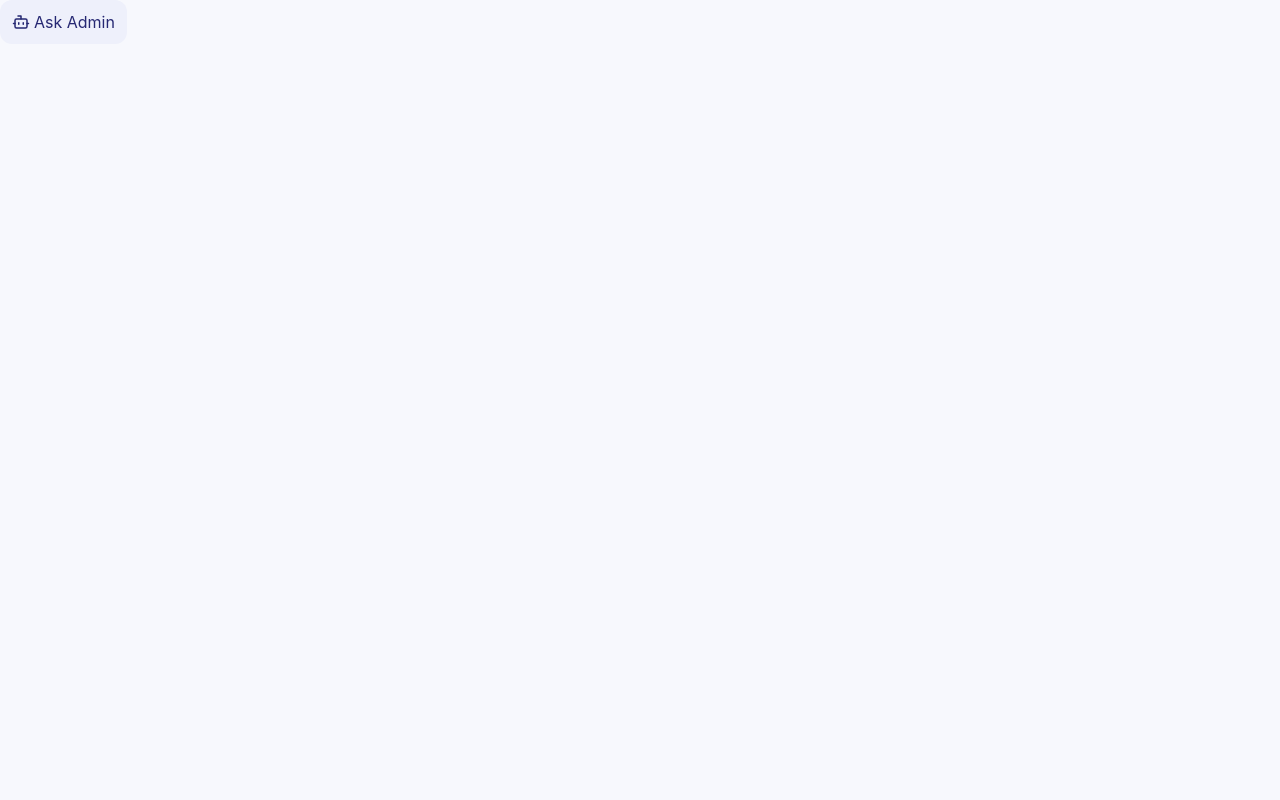
Test: Ask Admin › filters the directory and rechecks access when a choice is selected
The image size is (1280, 800).
Click the button "Ask Admin": click(64, 22) [0, 0, 127, 44]
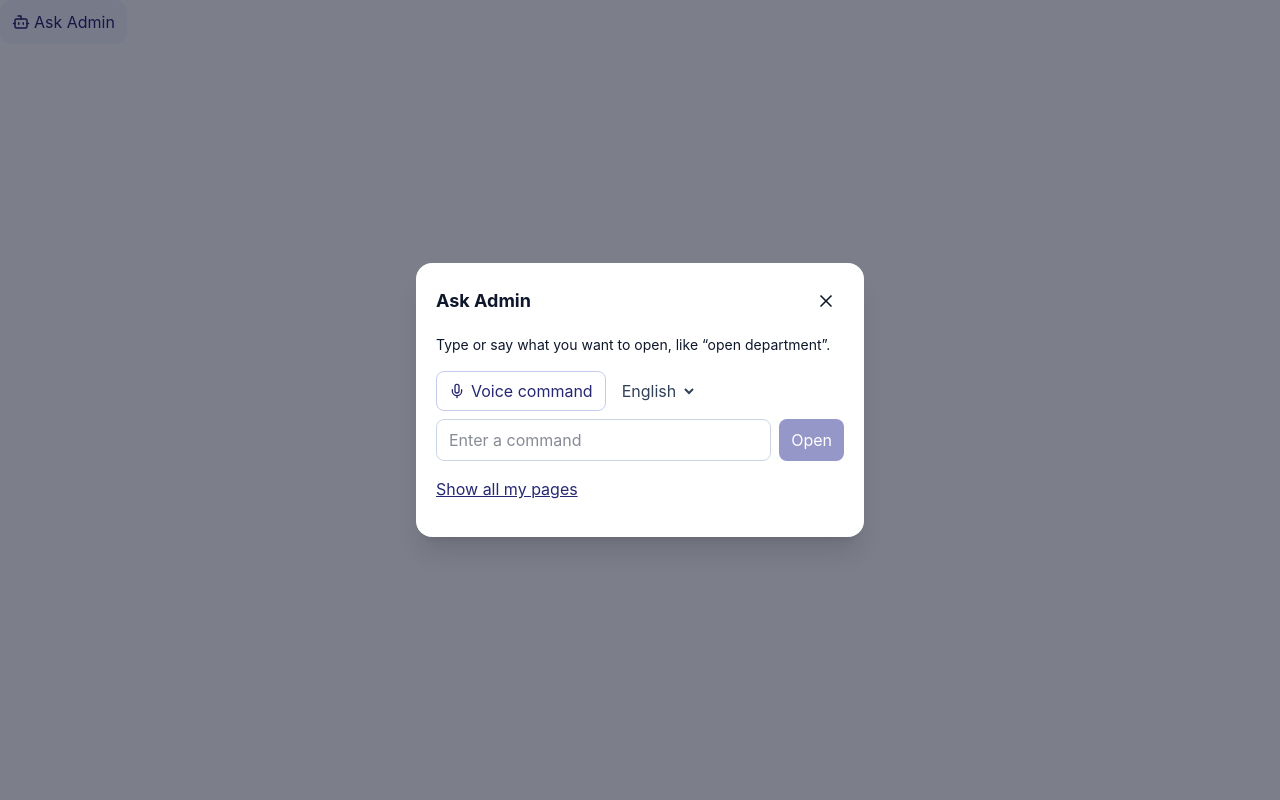
Click the button "Show all my pages": click(507, 489) [436, 477, 578, 501]
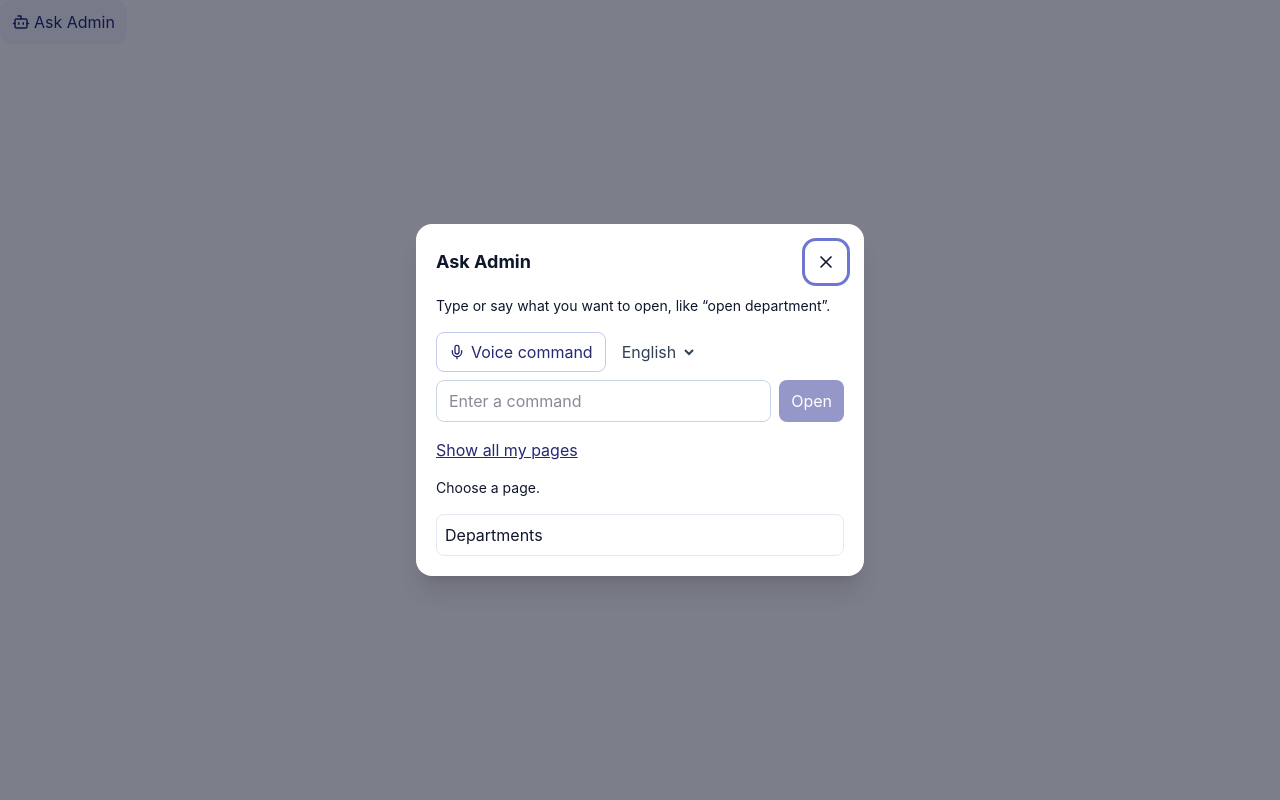
Click the button "Departments": click(494, 535) [436, 514, 844, 556]
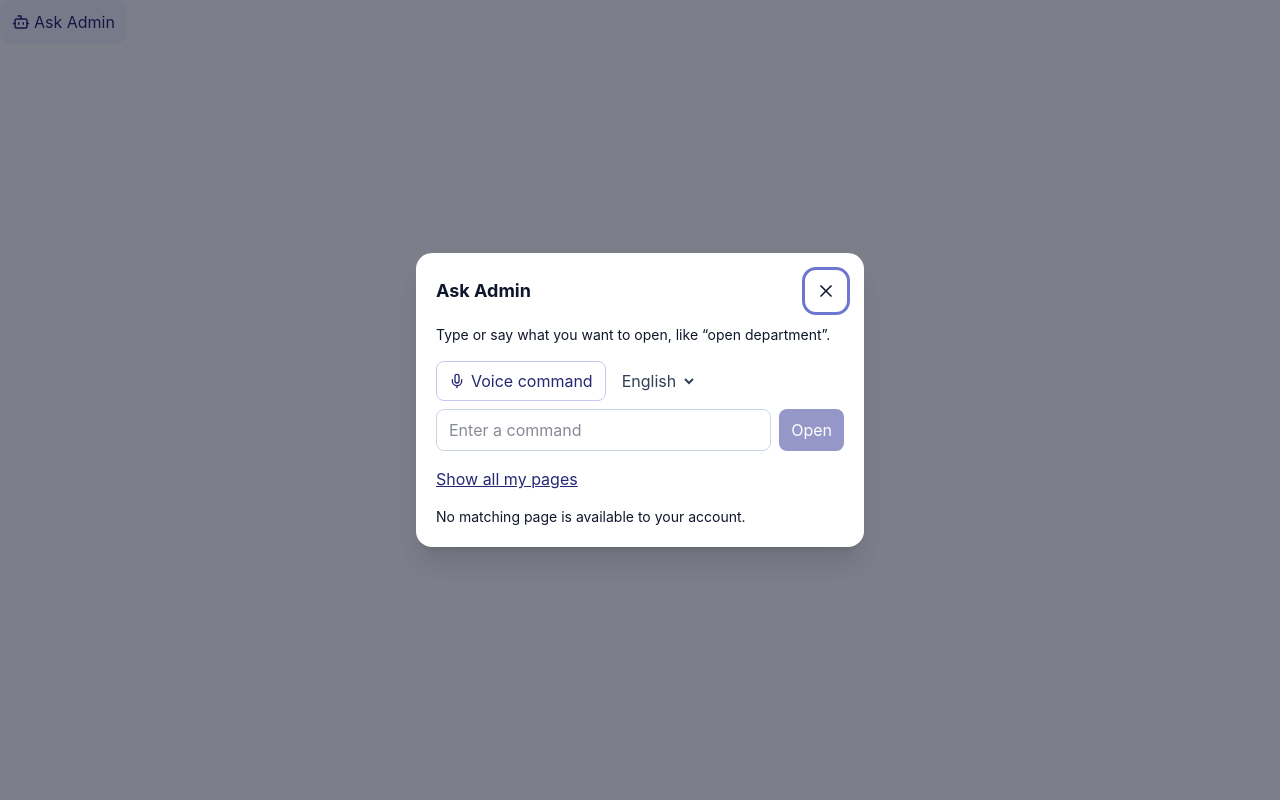
Now the text "No matching page is available to your account." is shown, box [436, 508, 746, 525]
